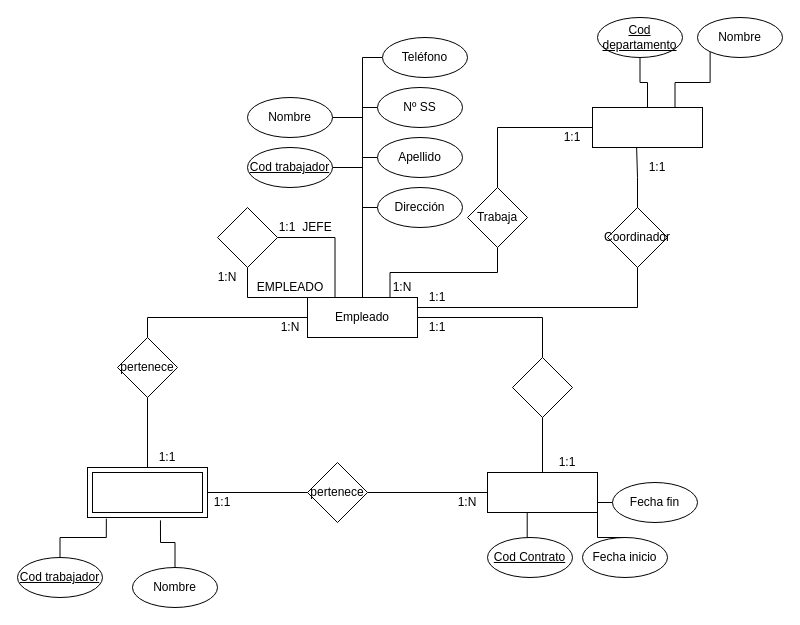
The diagram is 800 pixels wide and 625 high, and some of its shapes have lost their labels. Here are the shapes that lost their labels. From the top down, the centre of each, then its label:
At pixel 647 127: "Departamento".
At pixel 247 237: "Es".
At pixel 542 387: "tiene".
At pixel 147 492: "Categoría".
At pixel 542 492: "Contrato".
